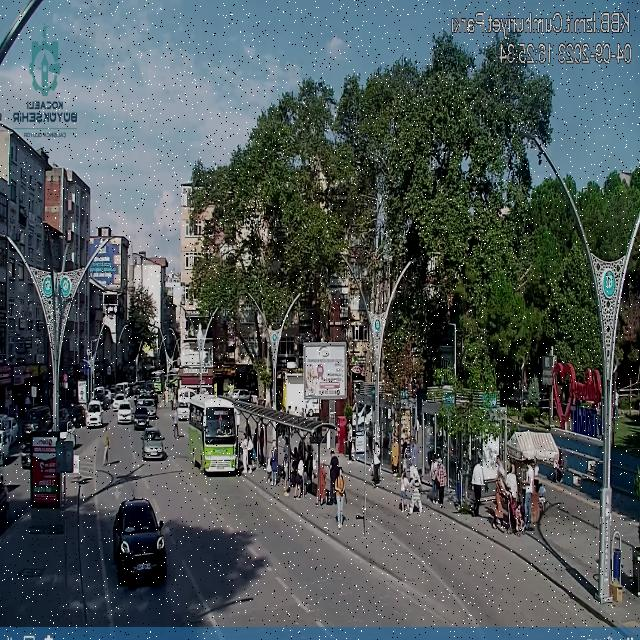bus: (187, 394, 238, 476)
car: (113, 494, 165, 586), (137, 430, 165, 466)
